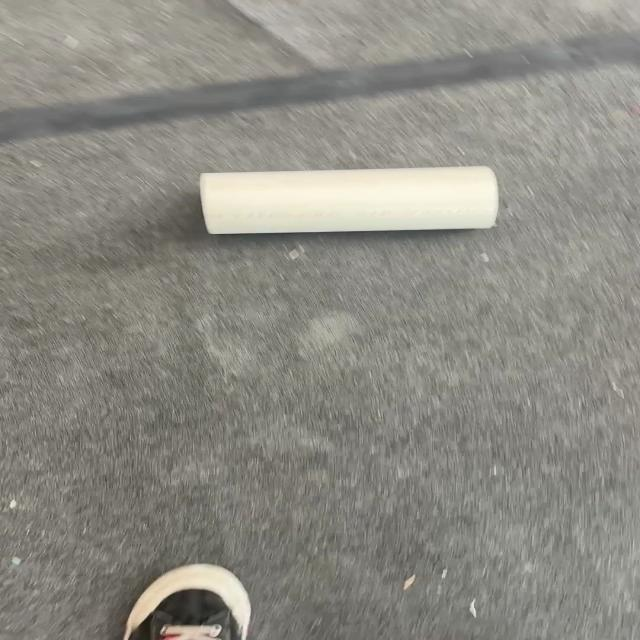Coral: (198, 164, 500, 235)
